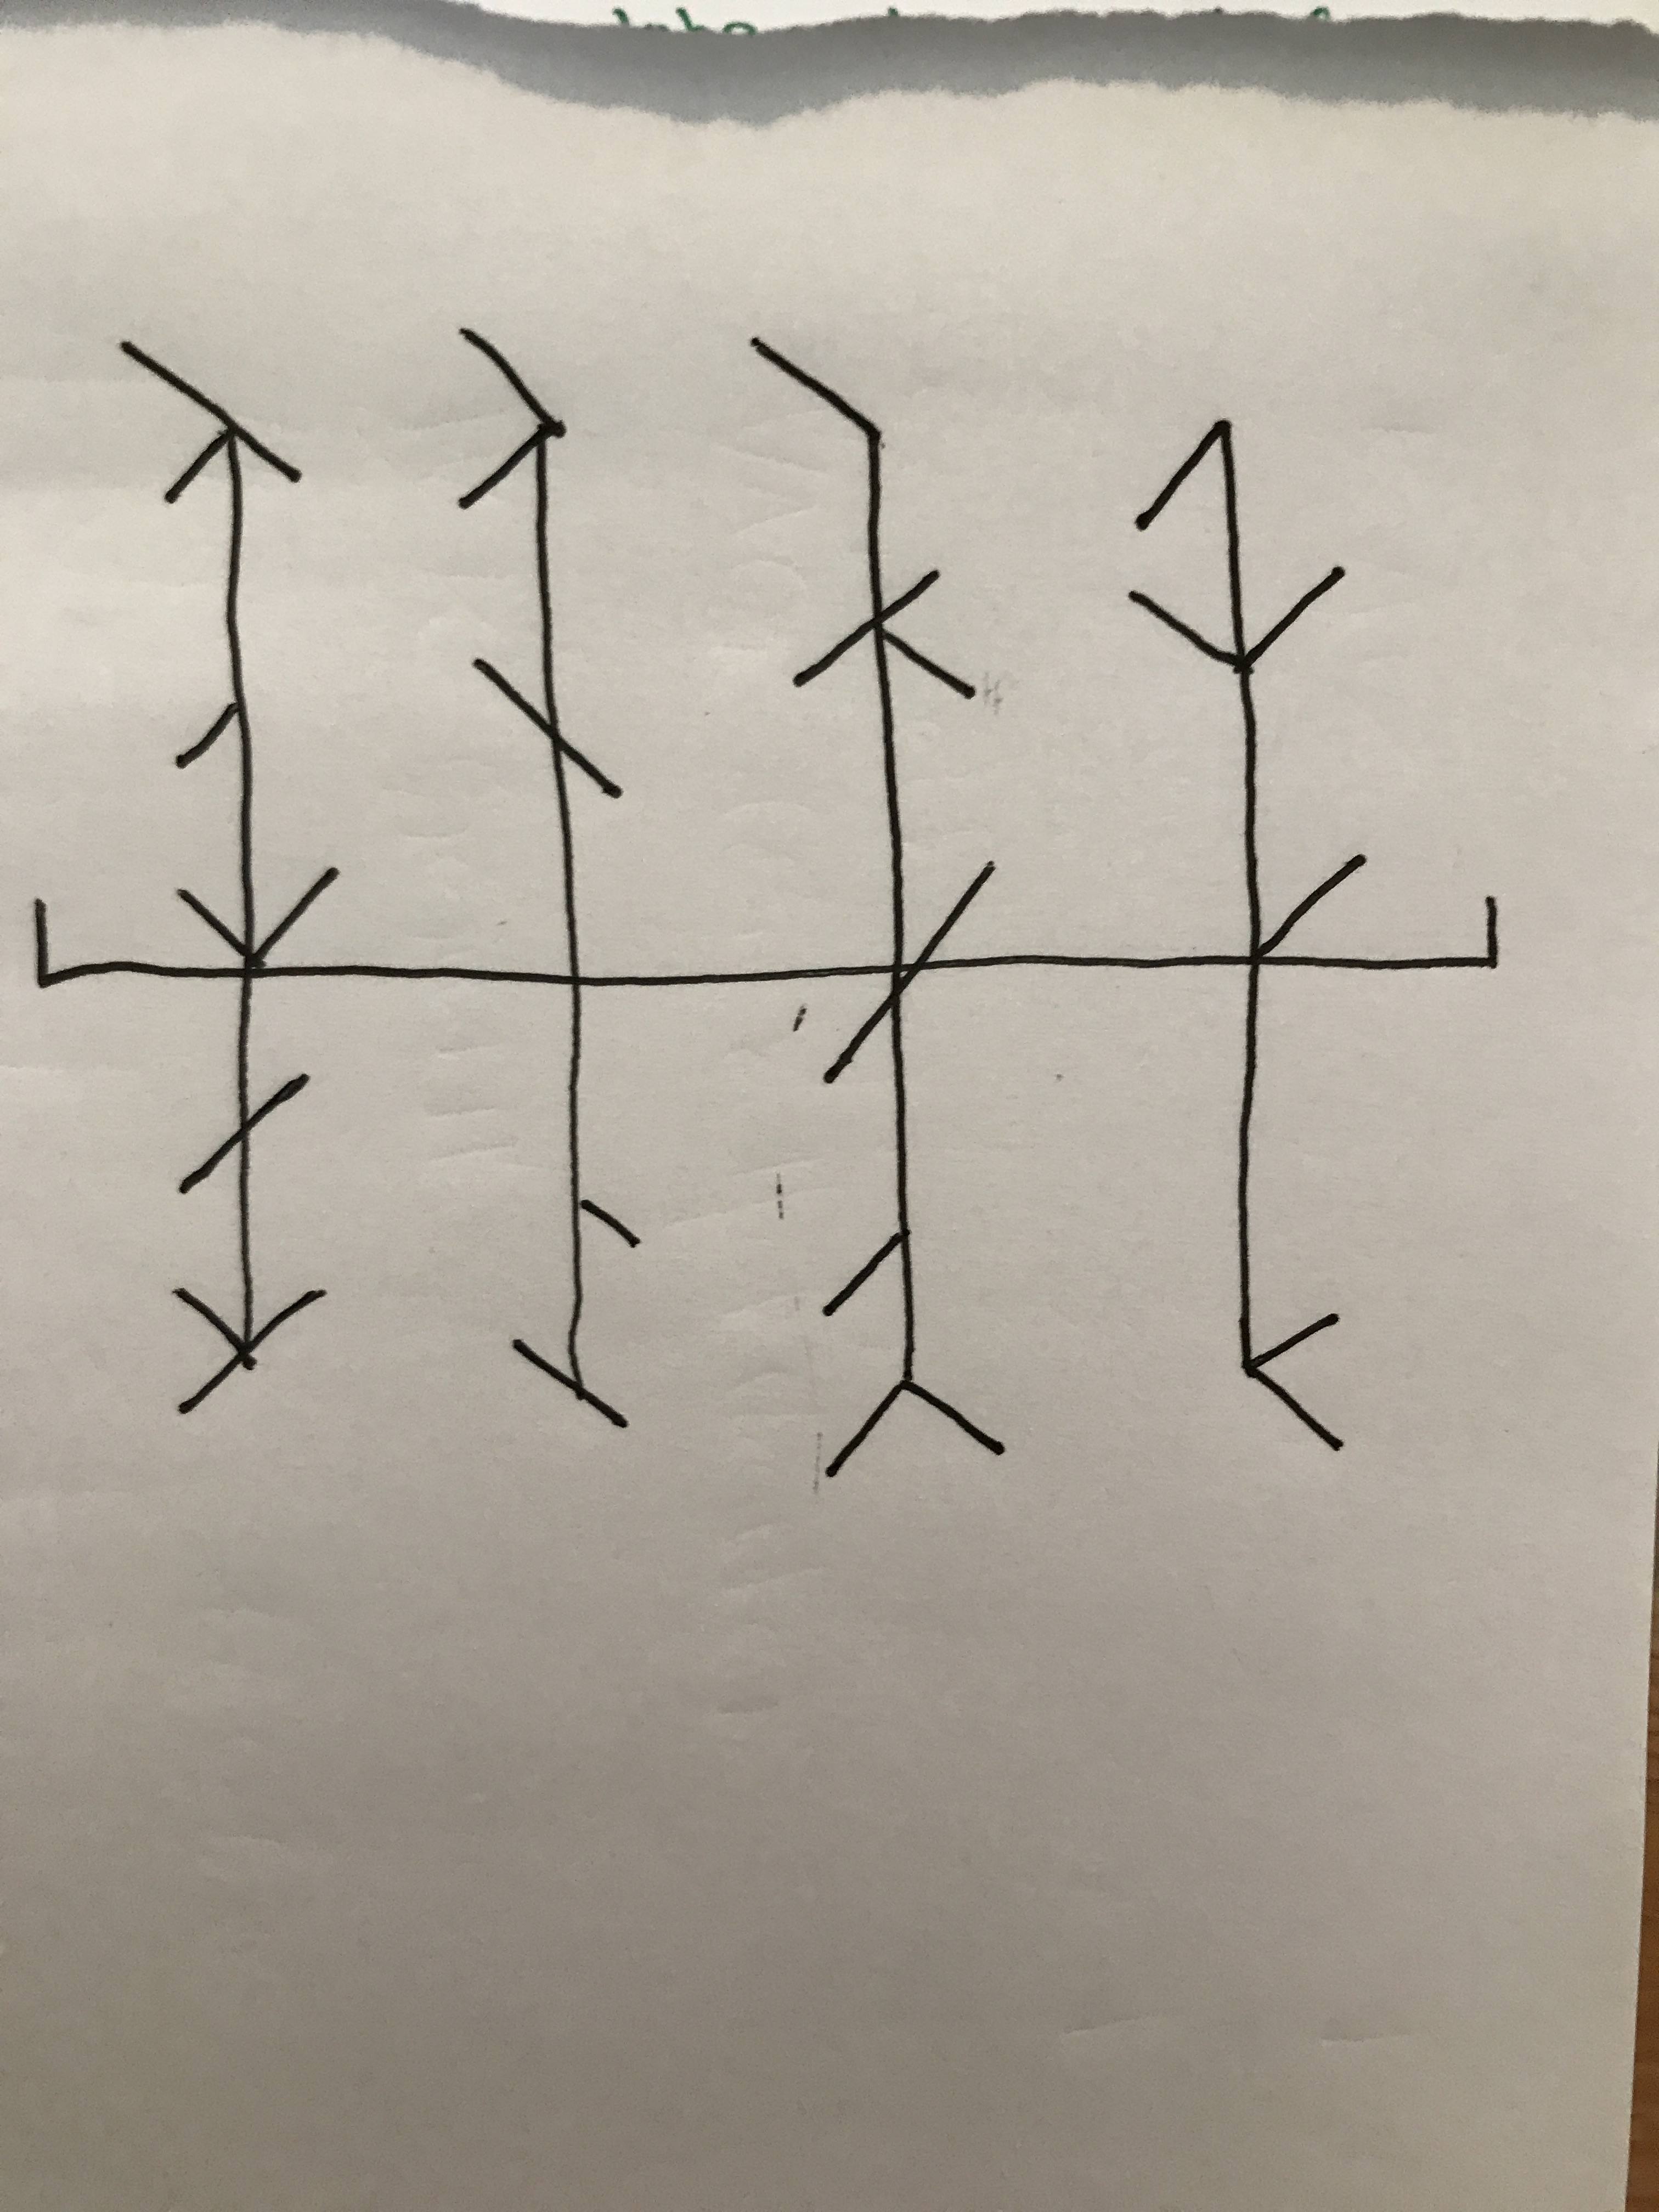Bar: (751, 340, 1007, 1477), (1127, 420, 1368, 1453), (115, 341, 342, 1418), (458, 326, 640, 1430)
Barcode: (31, 324, 1499, 1480)
End: (1328, 894, 1497, 970)
Start: (33, 900, 173, 993)
